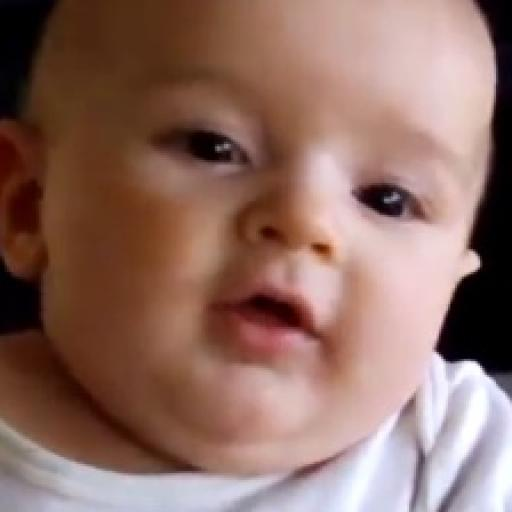Autism: (56, 8, 497, 440)
